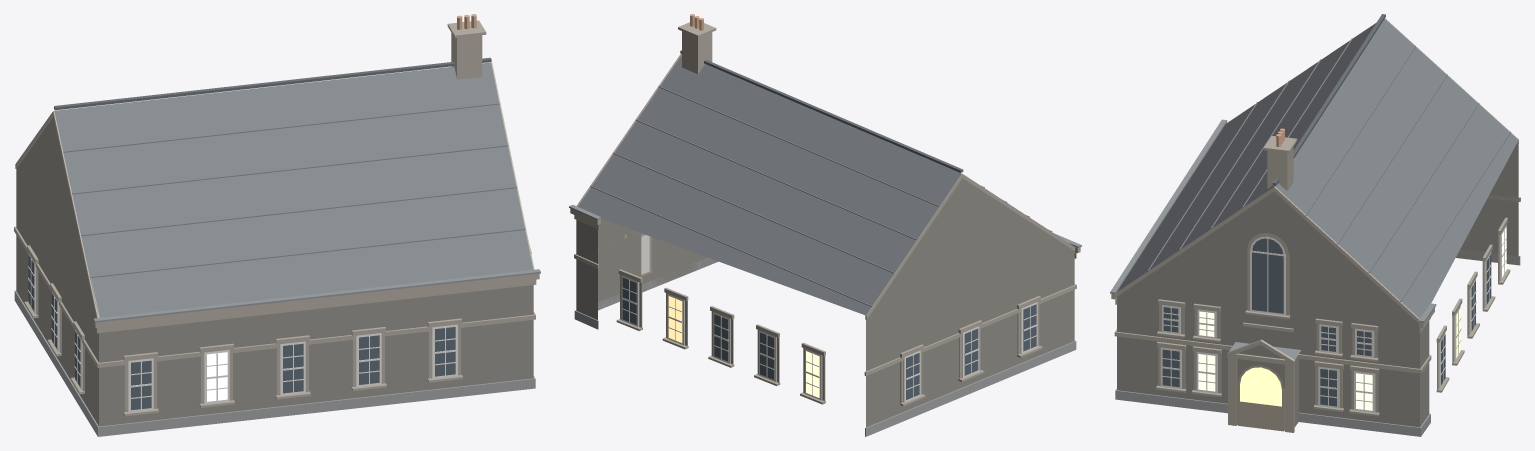
3 views of the same model, side by side, from view 1: azimuth 30°, elevation 25°; view 2: azimuth 150°, elevation 25°; view 3: azimuth 270°, elevation 25° (orthographic). The views are drawn at different scales.
Visible parts, largest first — view 1: slate, rubble_dk, chim_stone, plinth, windows, frame, slate_lt, lead, slate_dk; view 2: slate, rubble_dk, chim_stone, windows, frame, plinth, slate_lt, slate_dk; view 3: slate, rubble_dk, chim_stone, windows, frame, slate_lt, plinth, lead, door_grey, slate_dk.
Boxes of the visible parts, x1,y1,x2,y2 form: slate: (54,62,533,317); rubble_dk: (16,117,533,426); chim_stone: (14,20,539,416); plinth: (14,290,535,436); windows: (28,255,455,410); frame: (28,253,457,412); slate_lt: (63,103,525,277); lead: (93,269,540,322); slate_dk: (54,57,491,110); slate: (578,55,961,315); rubble_dk: (576,178,1074,427); chim_stone: (570,22,1080,406); windows: (622,277,1036,399); frame: (621,235,1037,402); plinth: (574,257,1076,436); slate_lt: (590,86,1052,306); slate_dk: (680,50,963,172); slate: (1117,19,1518,318); rubble_dk: (1117,143,1518,430); chim_stone: (1111,18,1520,432); windows: (1162,227,1506,410); frame: (1160,225,1506,412); slate_lt: (1148,38,1510,301); plinth: (1115,250,1520,436); lead: (1110,119,1436,359); door_grey: (1238,365,1284,431); slate_dk: (1272,14,1385,185).
Bounding box in the file's own units: 22.83 × 13.96 × 18.78.
